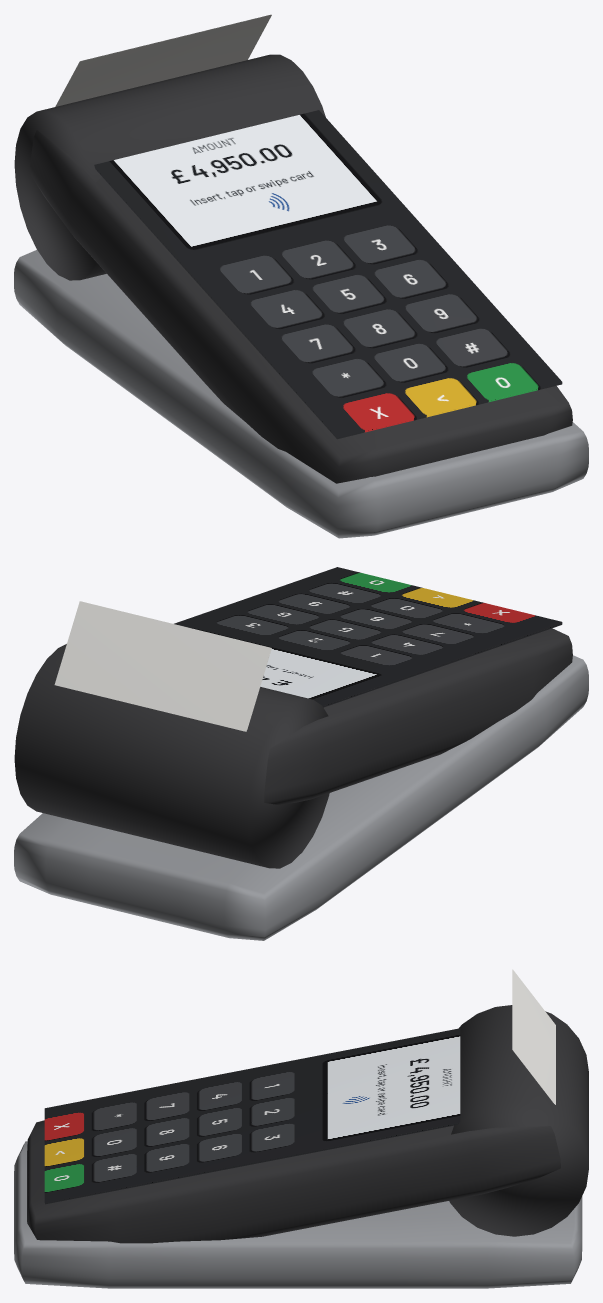
Rendered from PaymentTerminal.obj.
The picture shows the model from 3 angles, top to bottom: view 1: azimuth 30°, elevation 25°; view 2: azimuth 150°, elevation 25°; view 3: azimuth 270°, elevation 25°; orthographic projection. The views are drawn at different scales.
Parts seen in each view (by area): view 1: TerminalTop, PlasticBlack, PlasticGrey, PaperWhite; view 2: PlasticBlack, PlasticGrey, TerminalTop, PaperWhite; view 3: PlasticBlack, TerminalTop, PlasticGrey, PaperWhite.
Boxes of the visible parts, x1=… form: TerminalTop: x1=94, y1=110, x2=562, y2=439; PlasticBlack: x1=14, y1=54, x2=572, y2=483; PlasticGrey: x1=14, y1=250, x2=588, y2=538; PaperWhite: x1=55, y1=14, x2=271, y2=106; PlasticBlack: x1=14, y1=628, x2=572, y2=868; PlasticGrey: x1=14, y1=655, x2=588, y2=940; TerminalTop: x1=174, y1=567, x2=562, y2=707; PaperWhite: x1=54, y1=601, x2=271, y2=731; PlasticBlack: x1=27, y1=1005, x2=588, y2=1243; TerminalTop: x1=44, y1=1028, x2=460, y2=1204; PlasticGrey: x1=14, y1=1141, x2=582, y2=1288; PaperWhite: x1=512, y1=969, x2=555, y2=1104.
Size of the model in its own units: 0.078 by 0.0763 by 0.17.
Materials: 4 (1 with a texture image).
